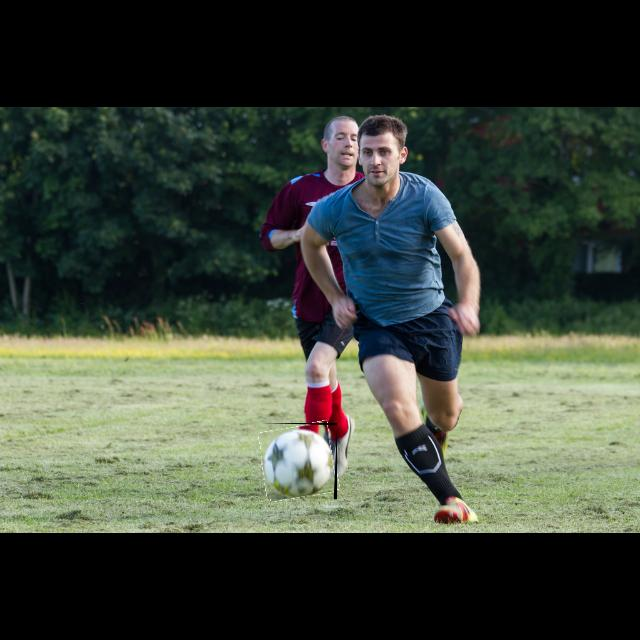Football: (261, 423, 337, 499)
